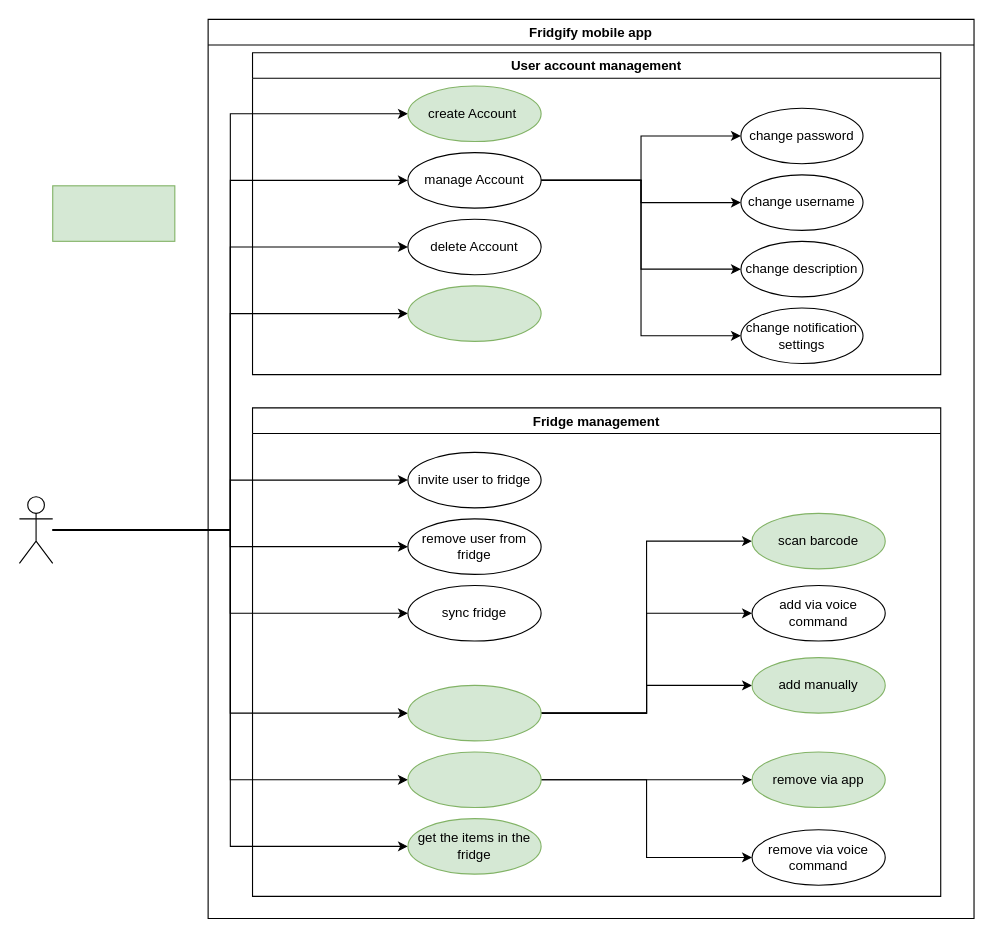
Some shapes in this 993 by 938 pixel diagram are drawn without their labels. The centre of each missing label's shape, as x and y in pixels:
"add item to fridge" goes at (x=474, y=712).
"Focus 1. Semester" goes at (x=113, y=213).
"log into Account" goes at (x=474, y=313).
"remove item from fridge" goes at (x=474, y=779).
"User" goes at (x=35, y=529).
